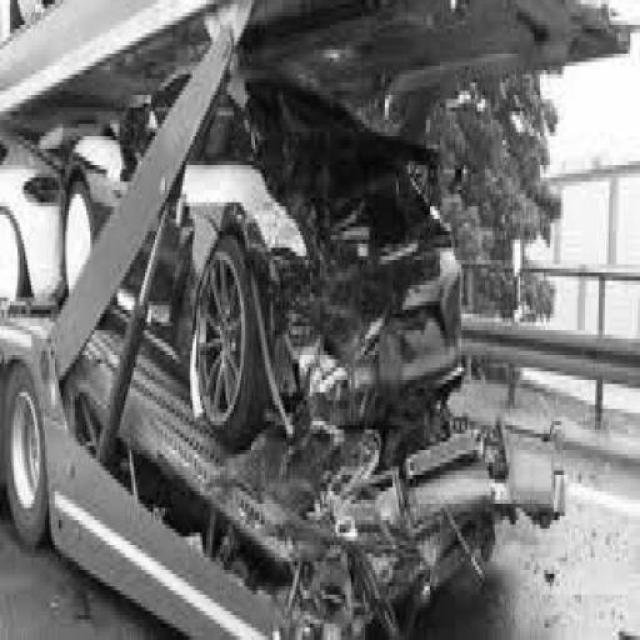crush: (241, 81, 449, 434)
